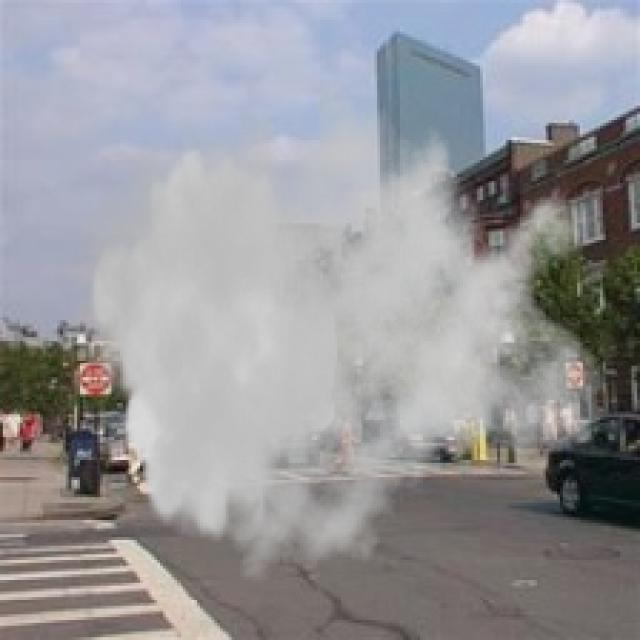smoke: (71, 46, 608, 591)
